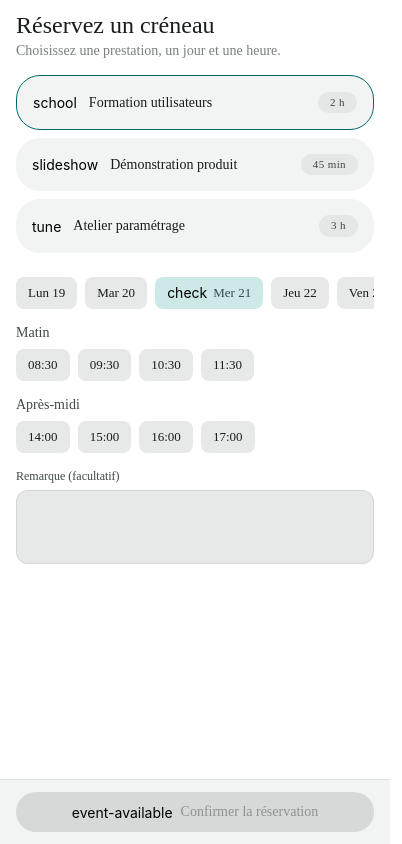
authentification et formulaires › réservation : confirmation après choix du créneau
Click the button "14:00".
click(43, 437)  # box [16, 421, 70, 453]
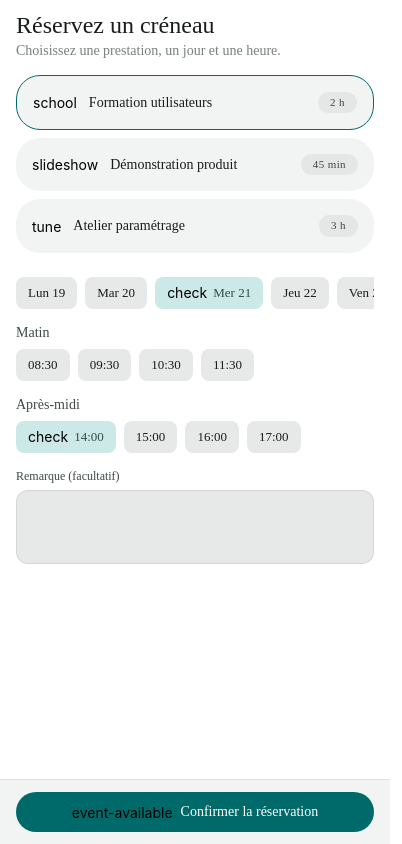
Click the text "Confirmer la réservation".
click(249, 812)  # box [181, 804, 318, 820]
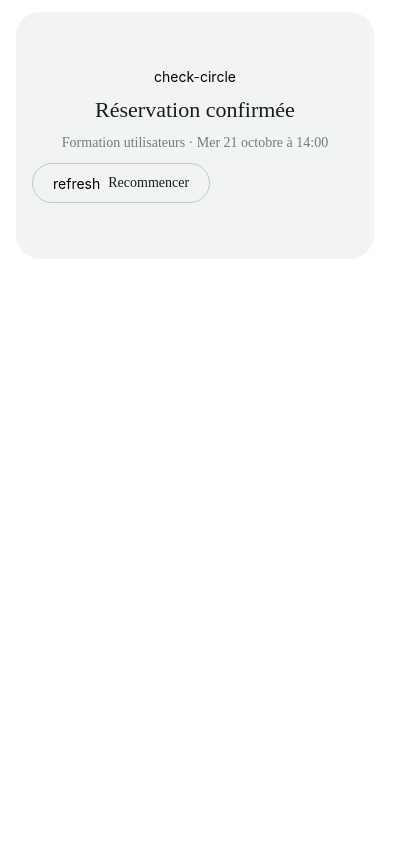
Check: the text "Formation utilisateurs · Mer 21 octobre à 14:00" is shown, box [62, 135, 328, 151]
